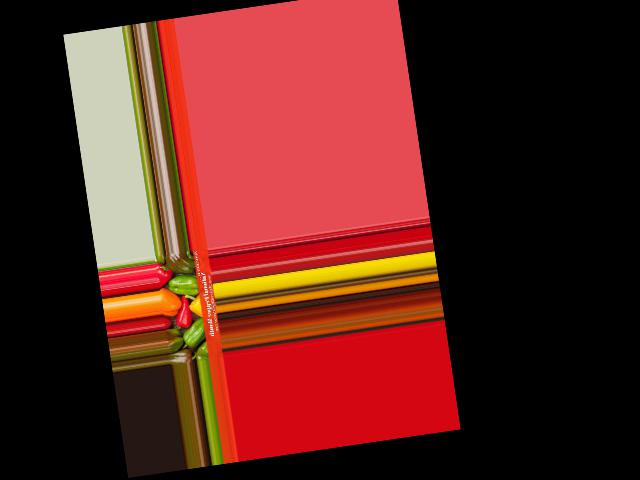bell_pepper: (165, 250, 196, 276)
